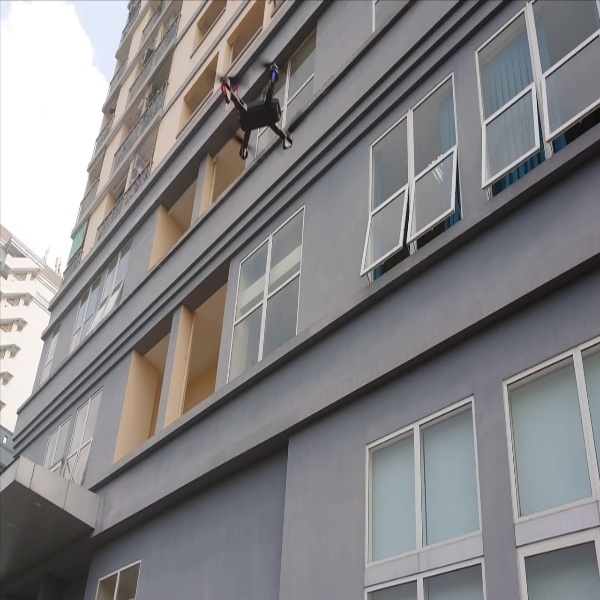drone: (209, 53, 301, 158)
